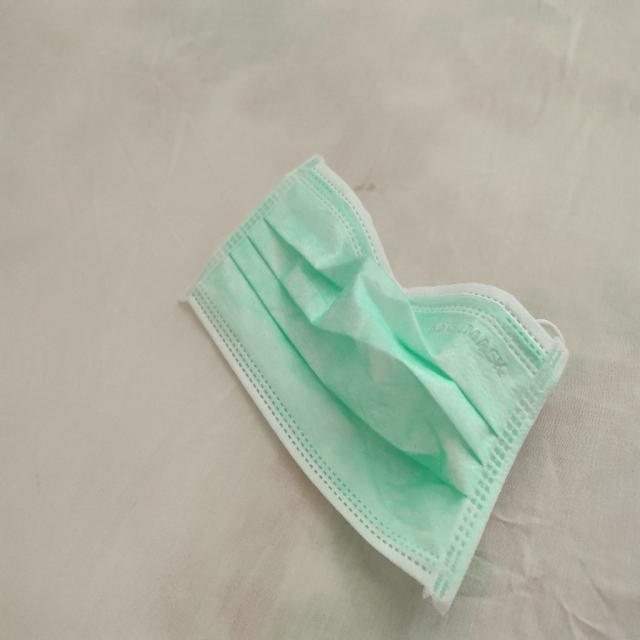face mask: (185, 150, 548, 588)
